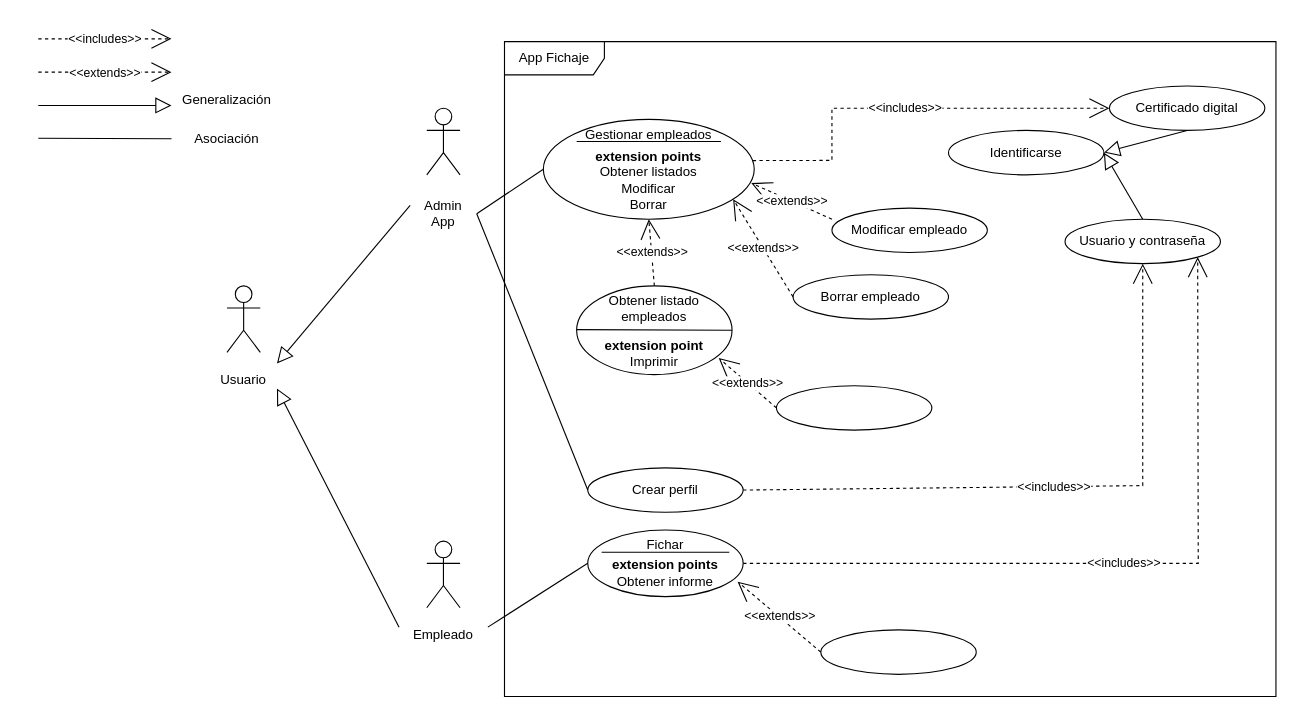
Image size: 1295x716. Some labels were removed from this diagram. Here are the shapes that lost their labels. From the top down, the centre of each, then its label:
pixel 853 407: Imprimir PDF
pixel 898 651: Obtener informe
